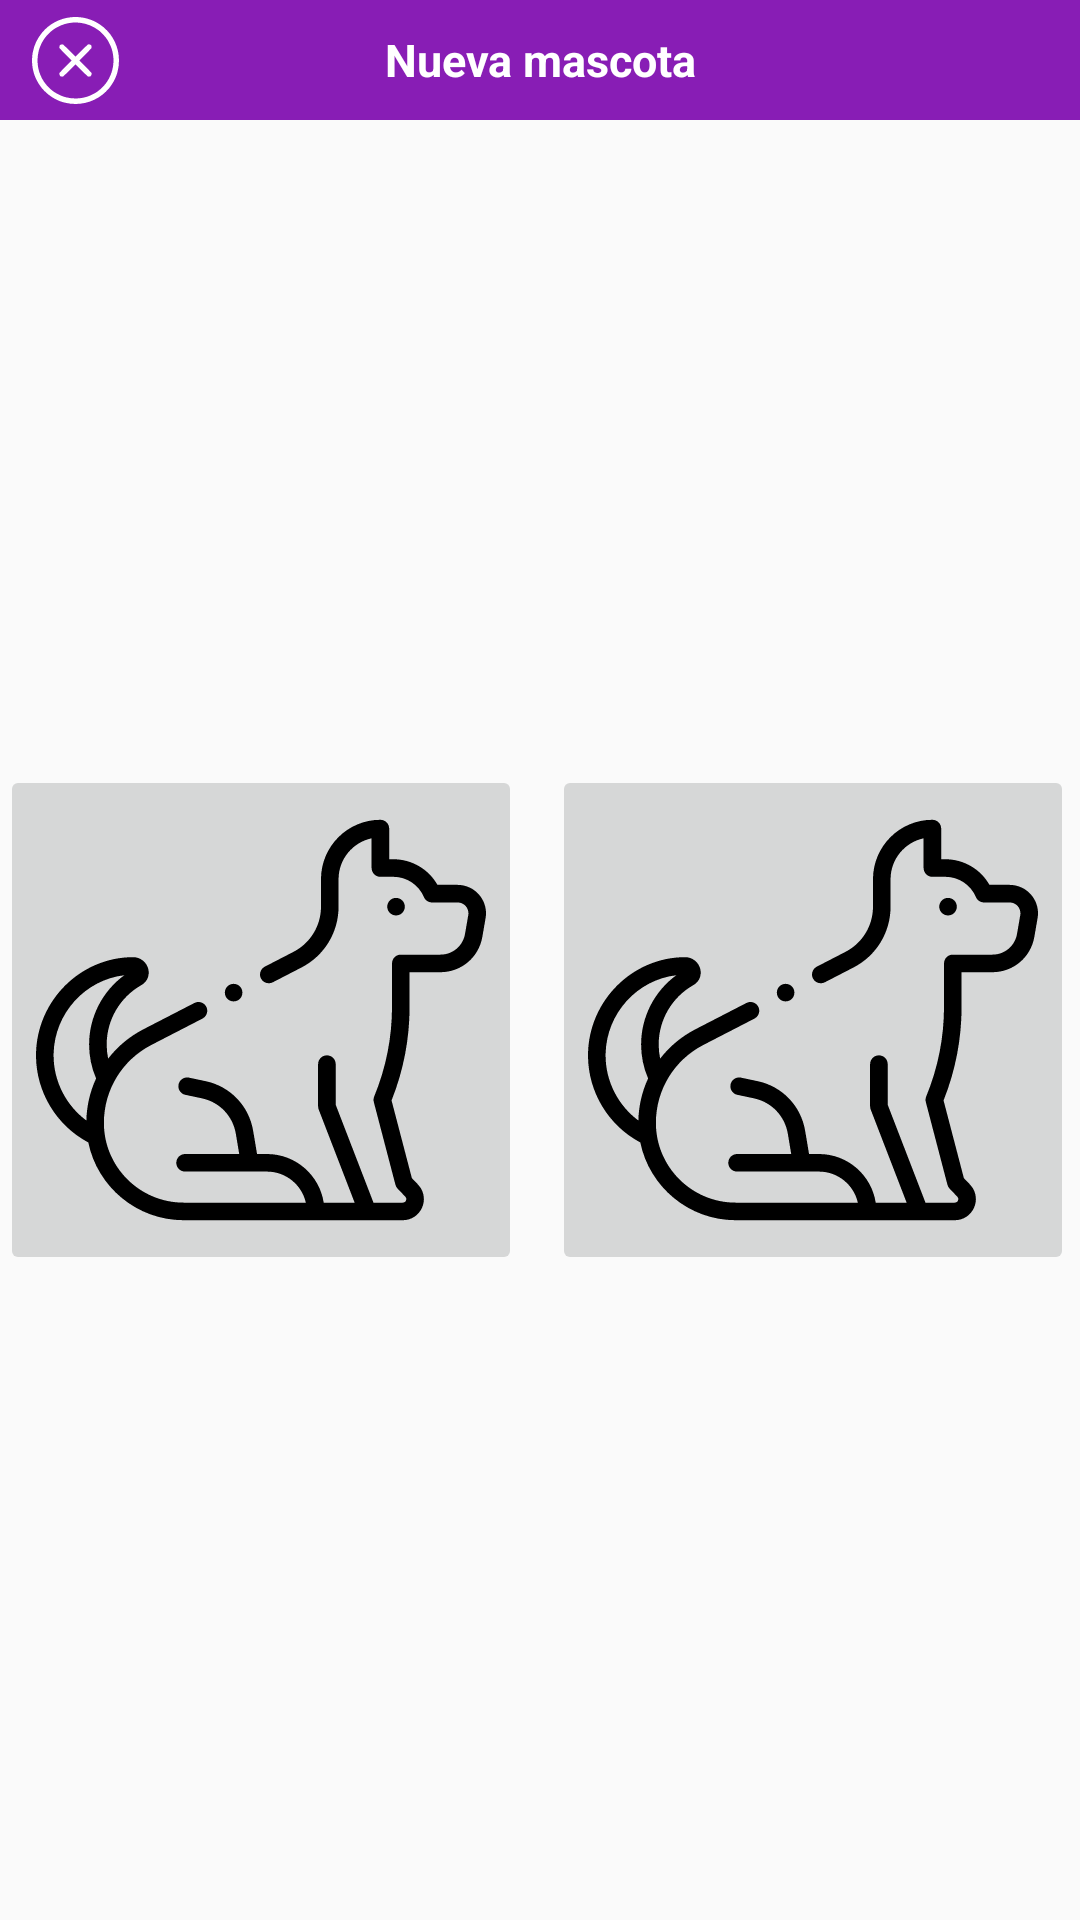

Icons on this 1080 x 1920 Android screen, each with its box as bbox=[x1, y1, x2, y2]:
cancelar: bbox=[32, 17, 119, 104]
